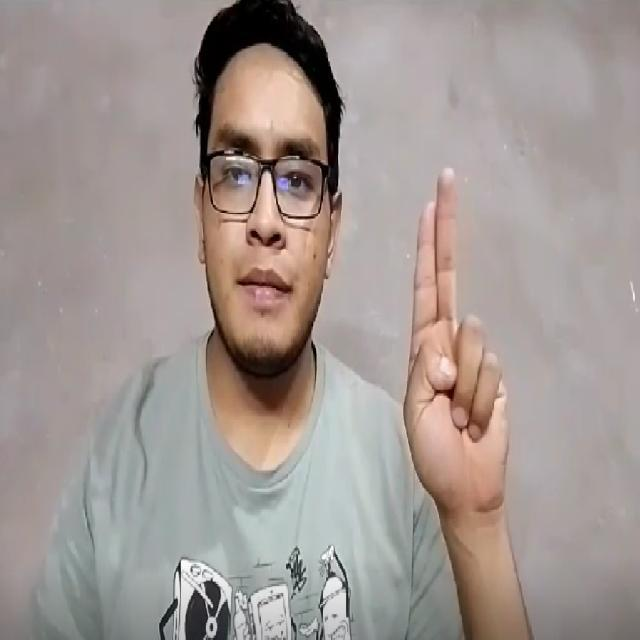U: (383, 145, 518, 516)
